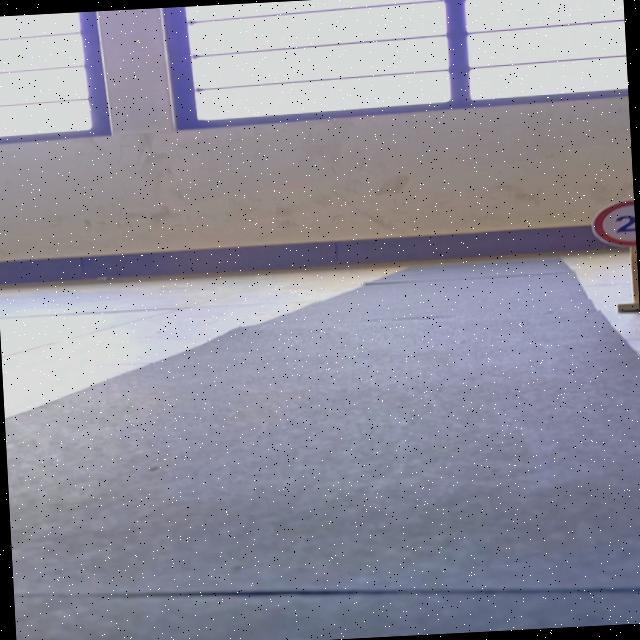Speed20: (586, 194, 636, 253)
